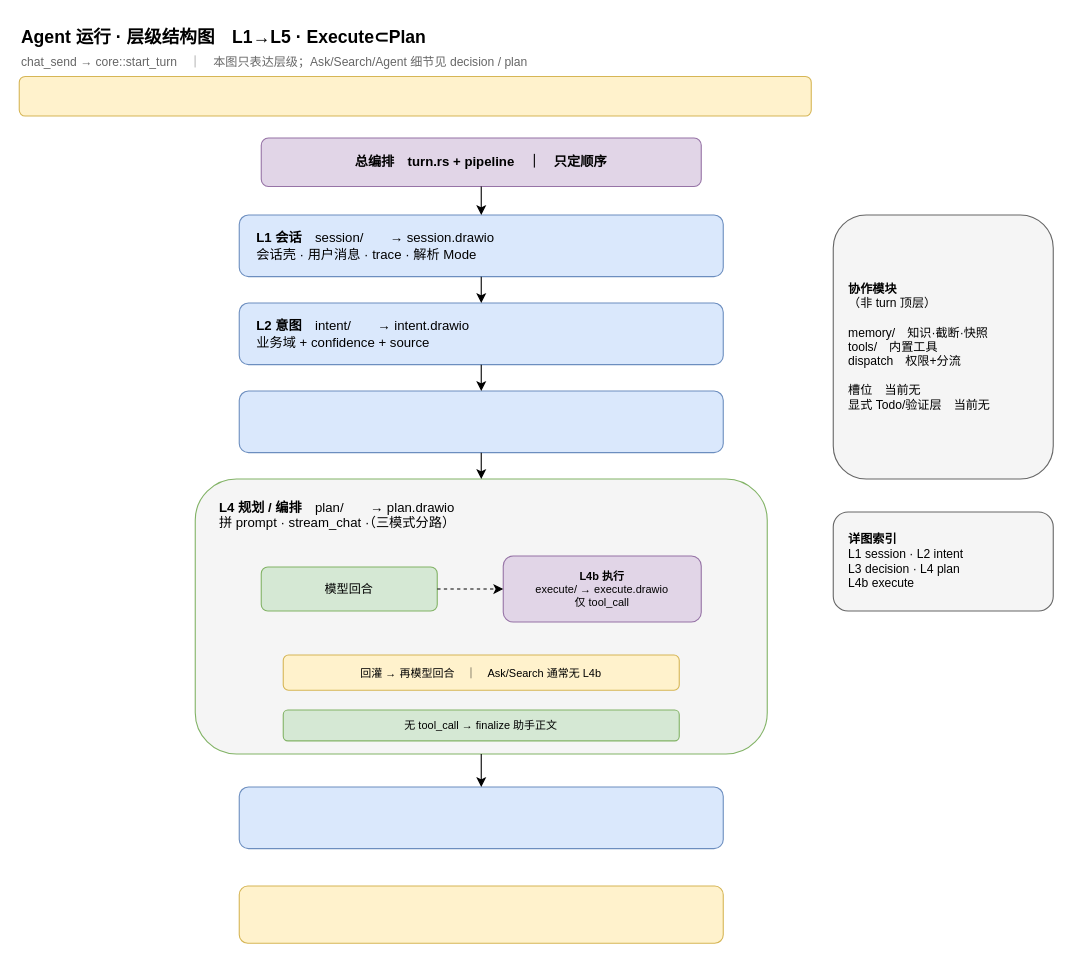
The diagram is 1073 pixels wide and 963 high, and some of its shapes have lost their labels. The centre of each missing label's shape, as x and y in pixels:
"L3 决策 decision/ → decision.drawio Ask / Search / Agent 三路组装参数" goes at pixel 480 421.
"L5 响应 / 观测 response/ trace 落库（正文已在 L4 写入）" goes at pixel 480 817.
"代码顶层顺序 L1→L2→L3→L4→L5 ｜ L4b 仅被 L4 调用" goes at pixel 480 914.
"原则 Mode=能力硬边界 Intent=业务域软提示 Execute⊂Plan 无独立槽位层" goes at pixel 414 95.
